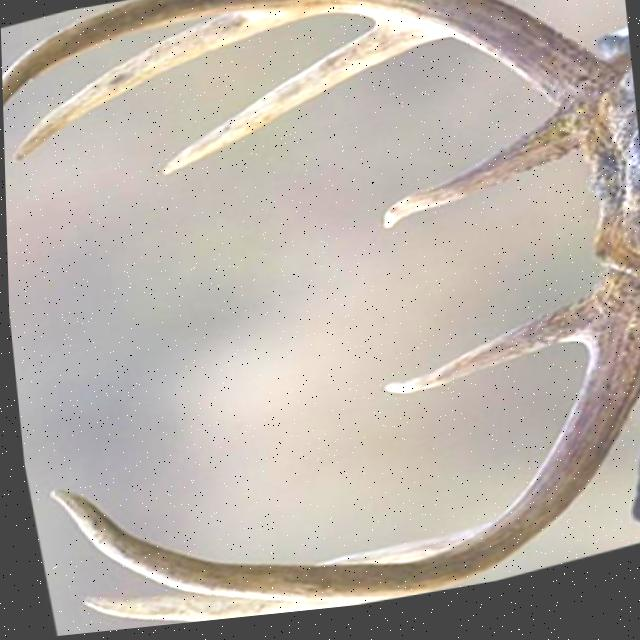L-F: (2, 0, 617, 149)
L-G1: (375, 121, 582, 240)
L-G2: (157, 27, 446, 179)
L-G3: (7, 15, 329, 163)
R-F: (44, 278, 640, 606)
R-G1: (378, 306, 586, 404)
